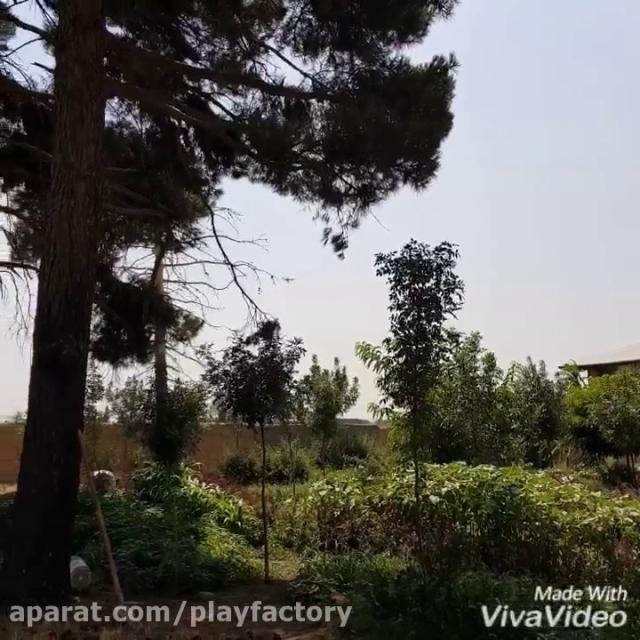drone: (278, 272, 296, 284)
